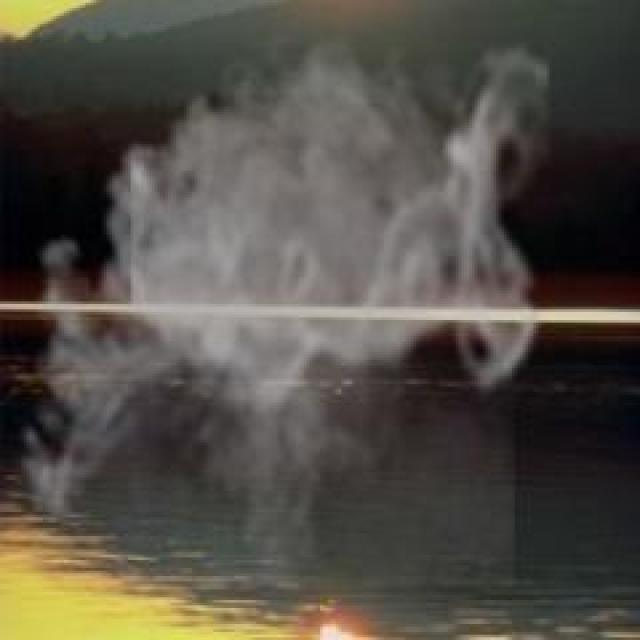smoke: (2, 18, 550, 586)
